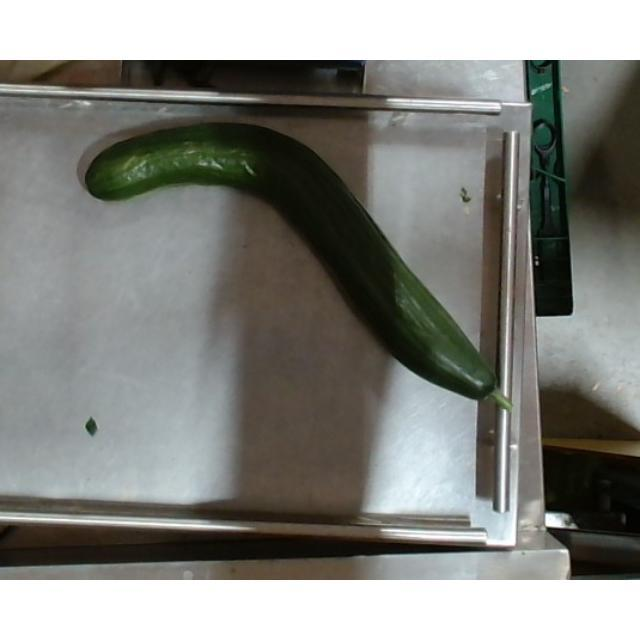cucumber: (84, 122, 512, 404)
